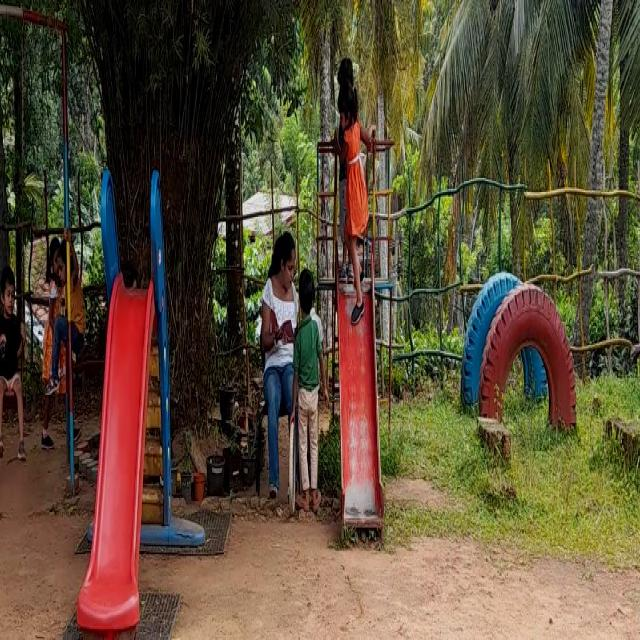adult: (245, 222, 296, 490)
child: (337, 72, 370, 323), (296, 262, 324, 500), (0, 261, 29, 468), (48, 244, 88, 391)
